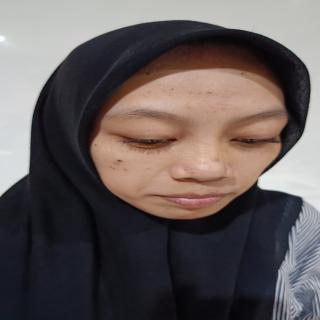Sedih: (80, 36, 300, 223)
